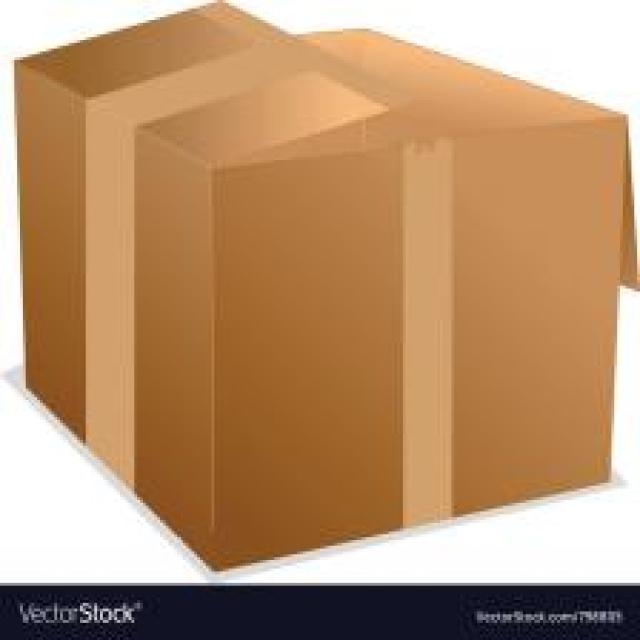box: (1, 54, 640, 562)
